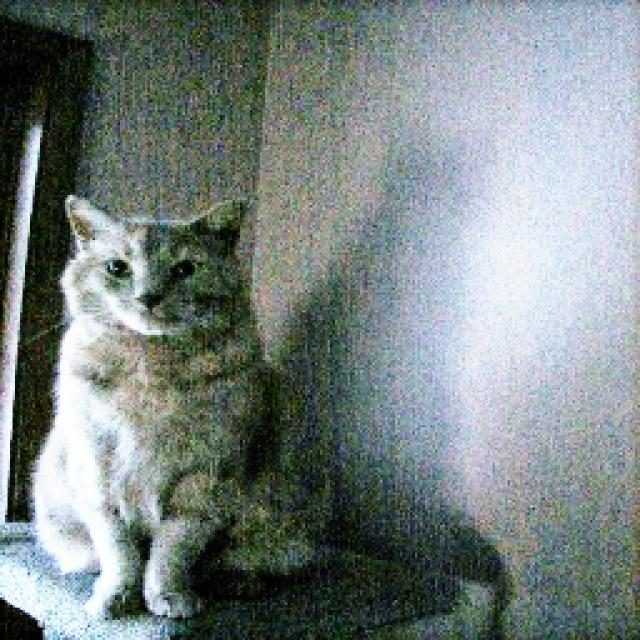cat: (17, 176, 324, 634)
